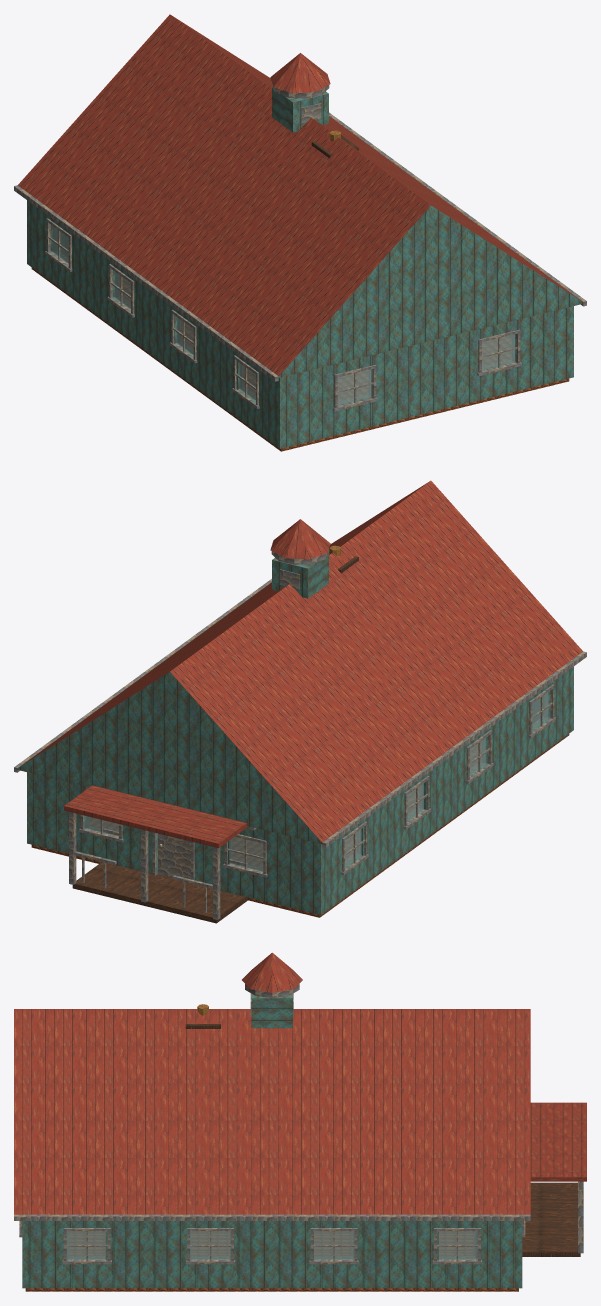
The model's file is orchard-schoolhouse.gltf.
3 views of the same model, one above another, from view 1: azimuth 30°, elevation 25°; view 2: azimuth 150°, elevation 25°; view 3: azimuth 270°, elevation 25° (orthographic).
Visible parts, largest first — view 1: roof-L0-brown-shingle, exterior-L0-cream-siding, roof-L0-cream-siding, trim-L0-dark-wood, roof-L0-dark-wood, glazing-L0-glass, floor-L0-floor, details-L0-brown-shingle, details-L0-cream-siding, details-L0-dark-wood; view 2: roof-L0-brown-shingle, exterior-L0-cream-siding, roof-L0-cream-siding, porch-L0-brown-shingle, porch-L0-stone, trim-L0-dark-wood, roof-L0-dark-wood, glazing-L0-glass, porch-L0-dark-wood, floor-L0-floor, details-L0-brown-shingle, details-L0-cream-siding (+2 smaller); view 3: roof-L0-brown-shingle, exterior-L0-cream-siding, floor-L0-floor, porch-L0-brown-shingle, glazing-L0-glass, porch-L0-stone, roof-L0-dark-wood, trim-L0-dark-wood, details-L0-brown-shingle, details-L0-cream-siding.
Boxes of the visible parts, x1,y1,x2,y2 form: roof-L0-brown-shingle: (18, 14, 580, 376); exterior-L0-cream-siding: (27, 200, 573, 448); roof-L0-cream-siding: (278, 205, 584, 377); trim-L0-dark-wood: (45, 218, 521, 411); roof-L0-dark-wood: (14, 112, 586, 381); glazing-L0-glass: (52, 226, 515, 404); floor-L0-floor: (31, 267, 569, 451); details-L0-brown-shingle: (270, 53, 330, 93); details-L0-cream-siding: (272, 87, 328, 132); details-L0-dark-wood: (271, 82, 329, 123); roof-L0-brown-shingle: (20, 480, 582, 842); exterior-L0-cream-siding: (27, 666, 573, 915); roof-L0-cream-siding: (17, 672, 322, 844); porch-L0-brown-shingle: (64, 785, 248, 848); porch-L0-stone: (72, 862, 247, 923); trim-L0-dark-wood: (79, 684, 555, 884); roof-L0-dark-wood: (14, 579, 586, 847); glazing-L0-glass: (85, 692, 548, 871); porch-L0-dark-wood: (69, 812, 247, 919); floor-L0-floor: (31, 734, 569, 917); details-L0-brown-shingle: (270, 519, 330, 559); details-L0-cream-siding: (272, 553, 328, 598); roof-L0-brown-shingle: (14, 1009, 530, 1214); exterior-L0-cream-siding: (22, 1221, 522, 1288); floor-L0-floor: (25, 1232, 518, 1291); porch-L0-brown-shingle: (530, 1102, 586, 1181); glazing-L0-glass: (66, 1231, 477, 1259); porch-L0-stone: (522, 1182, 580, 1256); roof-L0-dark-wood: (14, 1214, 530, 1220); trim-L0-dark-wood: (19, 1221, 525, 1264); details-L0-brown-shingle: (242, 952, 302, 992); details-L0-cream-siding: (251, 994, 292, 1028).
Size of the model in its own units: 8.66 by 7.24 by 13.93.
10 materials, 9 textured.
